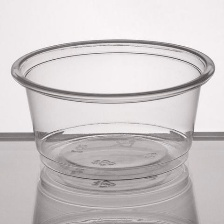glass: (7, 28, 218, 188)
